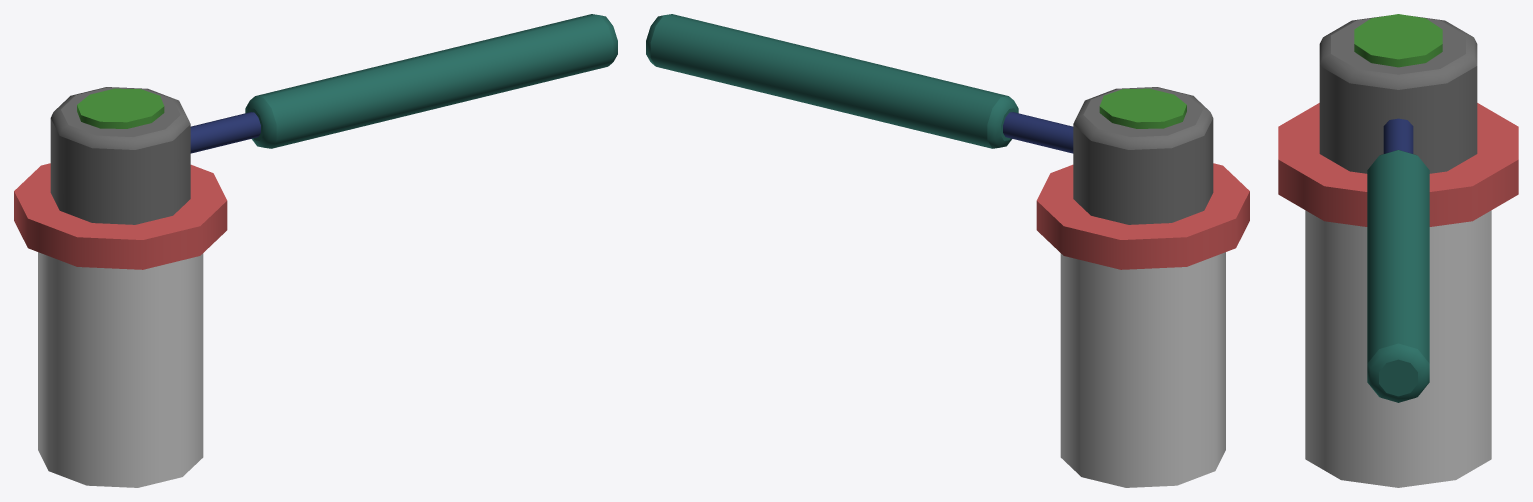
Rendered from Mechanism 1.fbx.
3 views of the same model, side by side, from view 1: azimuth 30°, elevation 25°; view 2: azimuth 150°, elevation 25°; view 3: azimuth 270°, elevation 25° (orthographic). The views are drawn at different scales.
Parts seen in each view (by area): view 1: Basis_1, Stick_02, Stick_01, Basis; view 2: Basis_1, Stick_02, Stick_01, Basis; view 3: Basis_1, Stick_01, Stick_02, Basis.
Part boxes in pixels (x1=…): Basis_1: x1=38, y1=252, x2=203, y2=487; Stick_02: x1=190, y1=14, x2=617, y2=153; Stick_01: x1=50, y1=87, x2=190, y2=224; Basis: x1=14, y1=163, x2=227, y2=269; Basis_1: x1=1060, y1=252, x2=1225, y2=487; Stick_02: x1=646, y1=14, x2=1073, y2=153; Stick_01: x1=1073, y1=87, x2=1213, y2=224; Basis: x1=1036, y1=163, x2=1249, y2=269; Basis_1: x1=1305, y1=210, x2=1491, y2=487; Stick_01: x1=1319, y1=14, x2=1477, y2=173; Stick_02: x1=1367, y1=118, x2=1429, y2=402; Basis: x1=1278, y1=103, x2=1518, y2=226.
Size of the model in its own units: 959 by 550 by 292.
